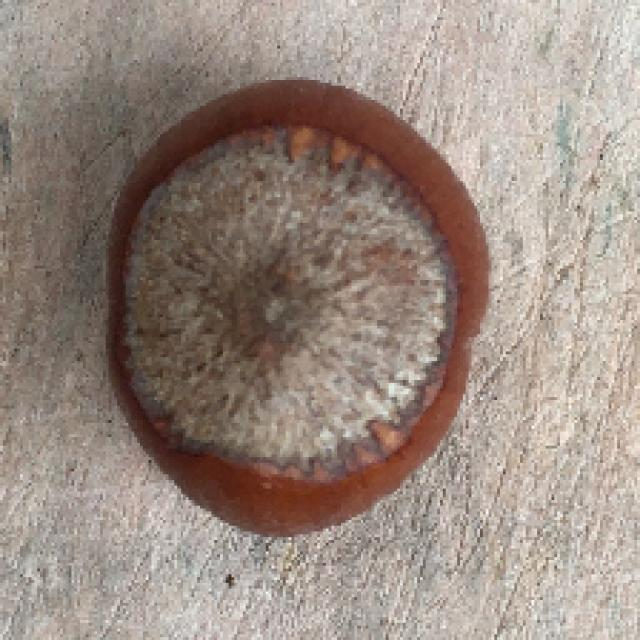qualityHazelnut: (98, 76, 490, 538)
